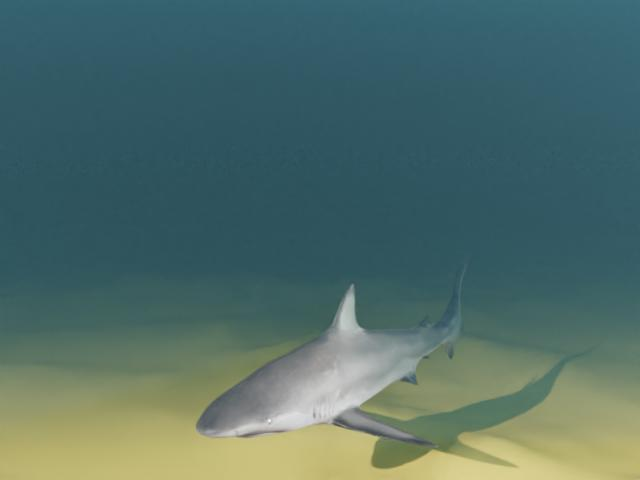Carribean Shark.001: (195, 252, 472, 447)
